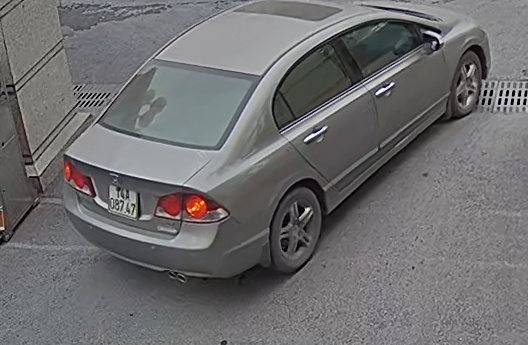vehicle plate: (106, 180, 140, 218)
